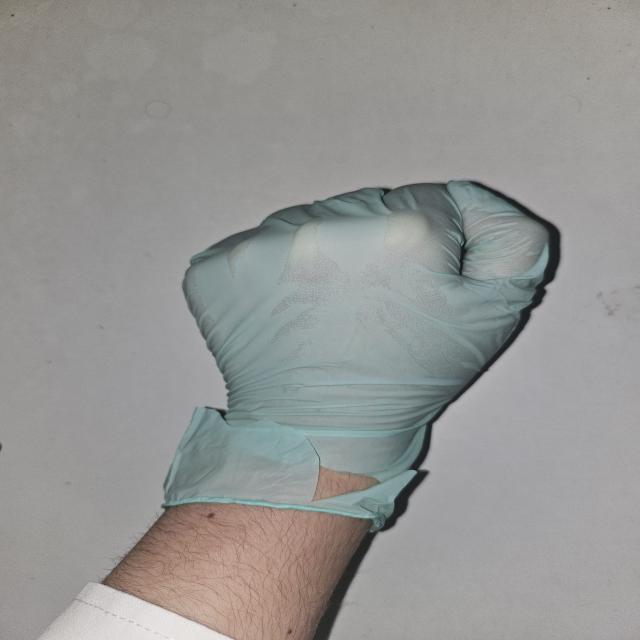gloves_damaged: (157, 180, 556, 532)
